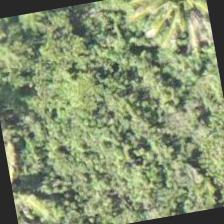Kelapa_Sawit: (0, 8, 66, 70)
